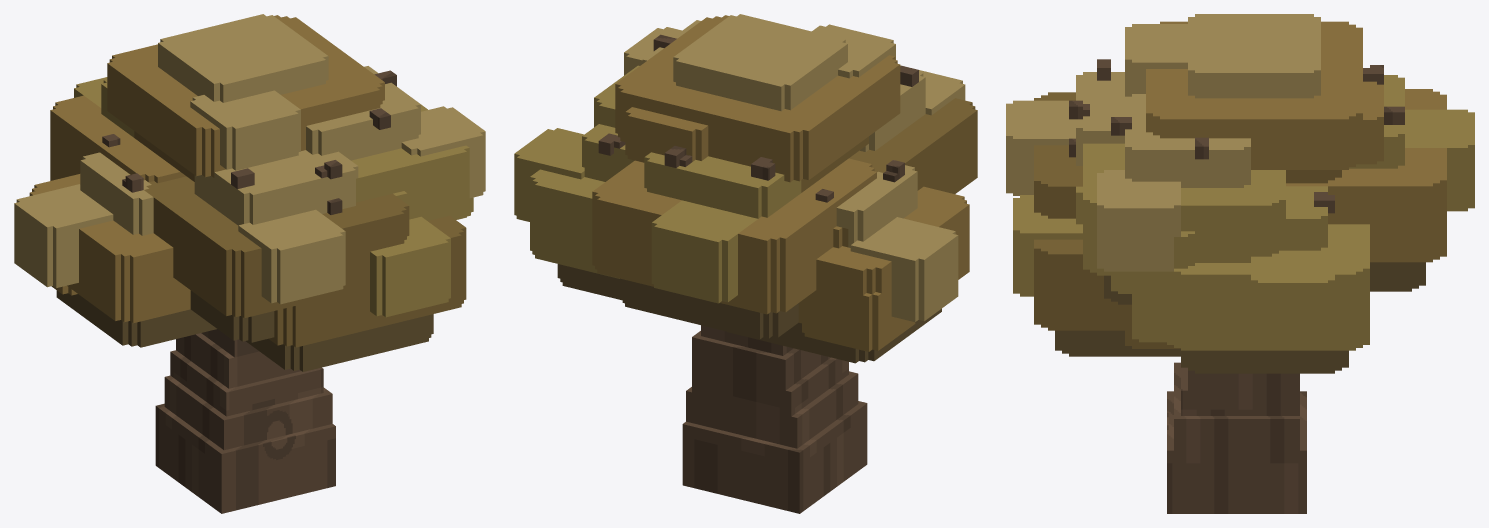
The model's file is apple_ancient_autumn_3.glb.
3 renders of one model, left to right at view 1: azimuth 30°, elevation 25°; view 2: azimuth 150°, elevation 25°; view 3: azimuth 270°, elevation 25°, orthographic. The views are drawn at different scales.
Parts seen in each view (by area): view 1: VoxelVisual; view 2: VoxelVisual; view 3: VoxelVisual.
Part boxes in pixels (bbox=[...]): VoxelVisual: bbox=[14, 14, 485, 513]; VoxelVisual: bbox=[514, 14, 977, 513]; VoxelVisual: bbox=[1006, 14, 1474, 513].
Size of what is drawn, in the model's own units: 17.5 by 17.5 by 16.75.
